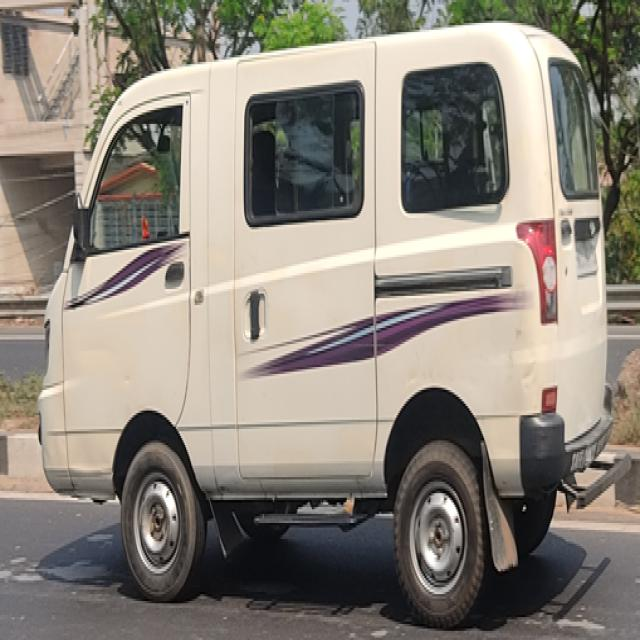van: (37, 18, 611, 633)
